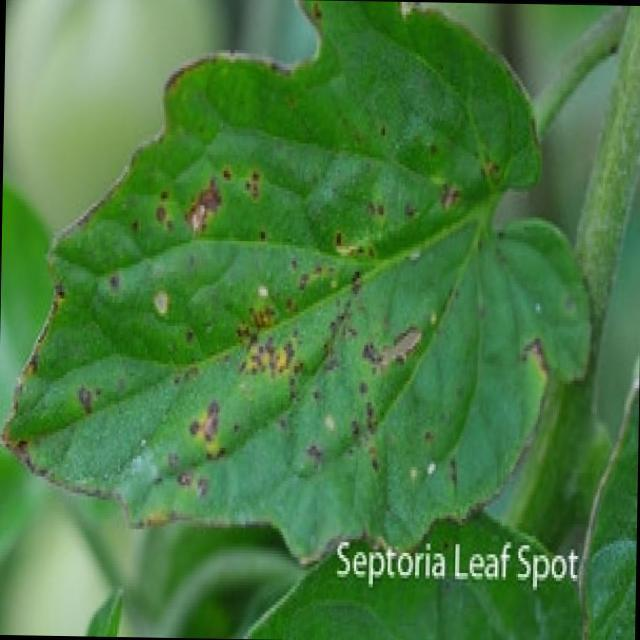Septoria: (19, 71, 524, 526)
